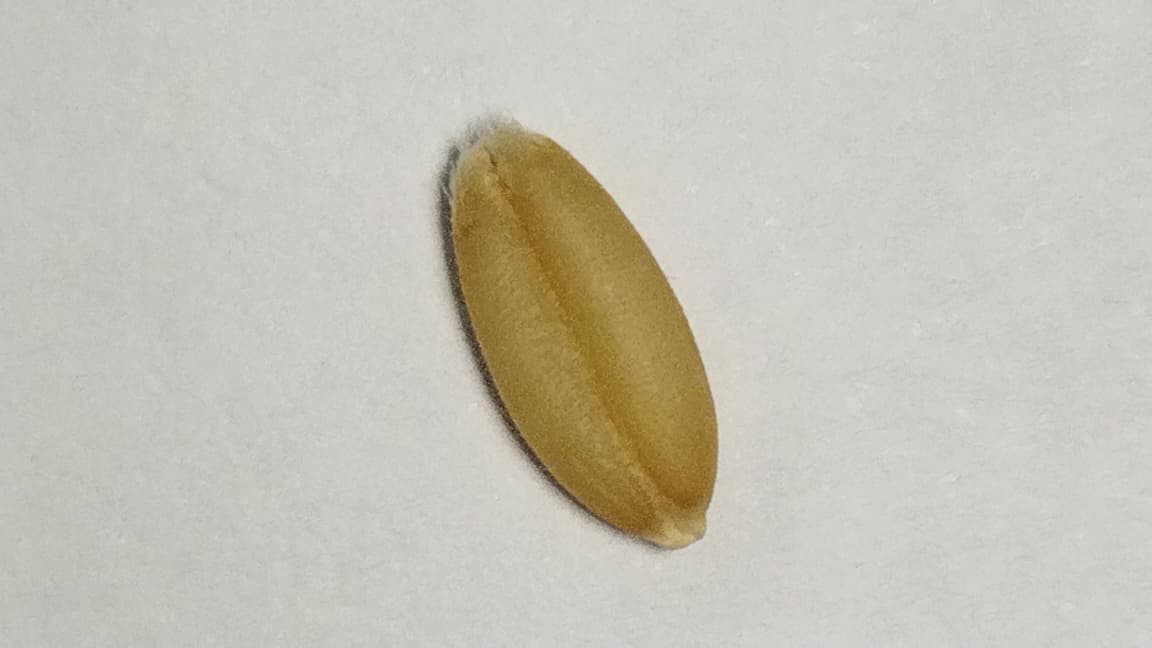healthy: (449, 125, 715, 545)
